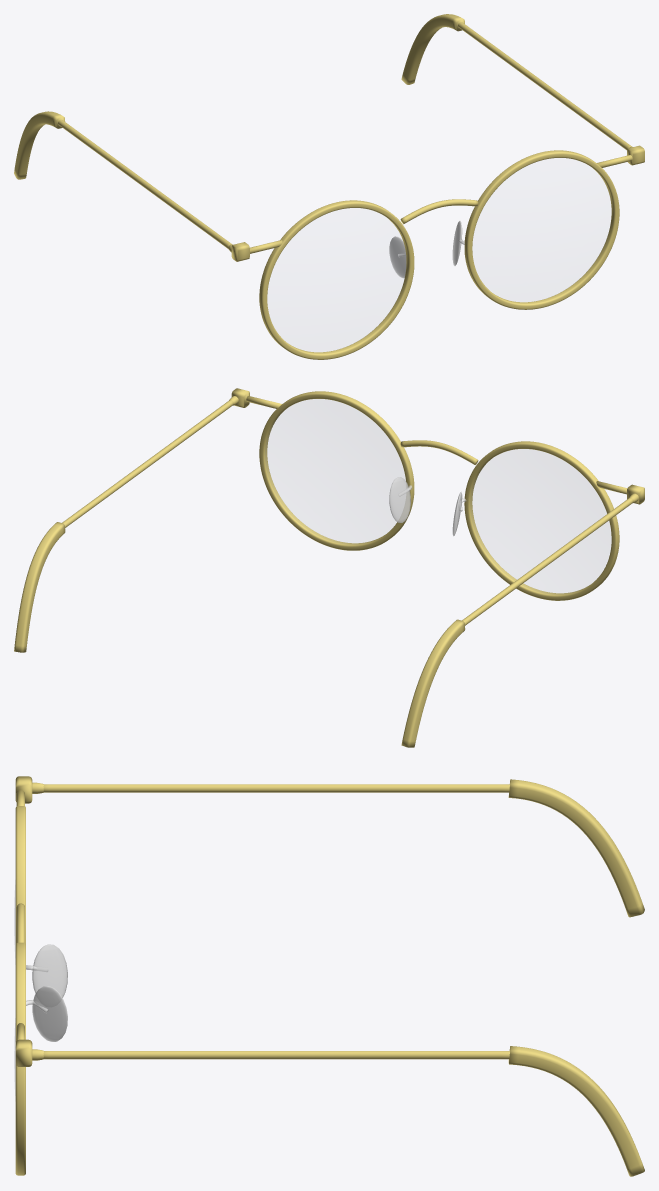
3 renders of one model, top to bottom at view 1: azimuth 30°, elevation 25°; view 2: azimuth 150°, elevation 25°; view 3: azimuth 270°, elevation 25°, orthographic. The views are drawn at different scales.
Parts seen in each view (by area): view 1: lens_L, lens_R, frame_front, temple_R, temple_L, nose_pads; view 2: lens_R, lens_L, frame_front, temple_L, temple_R, nose_pads; view 3: temple_L, temple_R, frame_front, nose_pads.
Part boxes in pixels (bbox=[...]): lens_L: bbox=[268, 208, 405, 351]; lens_R: bbox=[473, 158, 610, 301]; frame_front: bbox=[228, 145, 644, 359]; temple_R: bbox=[401, 14, 631, 150]; temple_L: bbox=[14, 111, 231, 248]; nose_pads: bbox=[389, 221, 464, 278]; lens_R: bbox=[265, 399, 404, 543]; lens_L: bbox=[470, 449, 610, 593]; frame_front: bbox=[229, 388, 644, 600]; temple_L: bbox=[401, 497, 633, 747]; temple_R: bbox=[14, 400, 233, 652]; nose_pads: bbox=[389, 477, 466, 536]; temple_L: bbox=[43, 779, 644, 917]; temple_R: bbox=[43, 1046, 644, 1176]; frame_front: bbox=[15, 776, 43, 1175]; nose_pads: bbox=[26, 944, 67, 1041].
Bounding box in the file's own units: 136 × 48.59 × 133.
